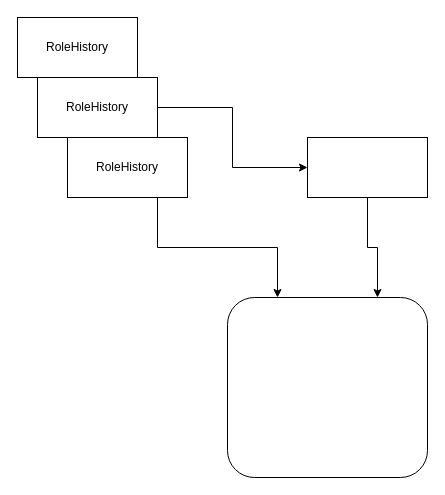
Some shapes in this 445 by 495 pixel diagram are drawn without their labels. Here are the shapes that lost their labels. From the top down, the box of each, then its label:
(306, 136, 428, 198): LiveRole
(226, 296, 428, 478): Rules
